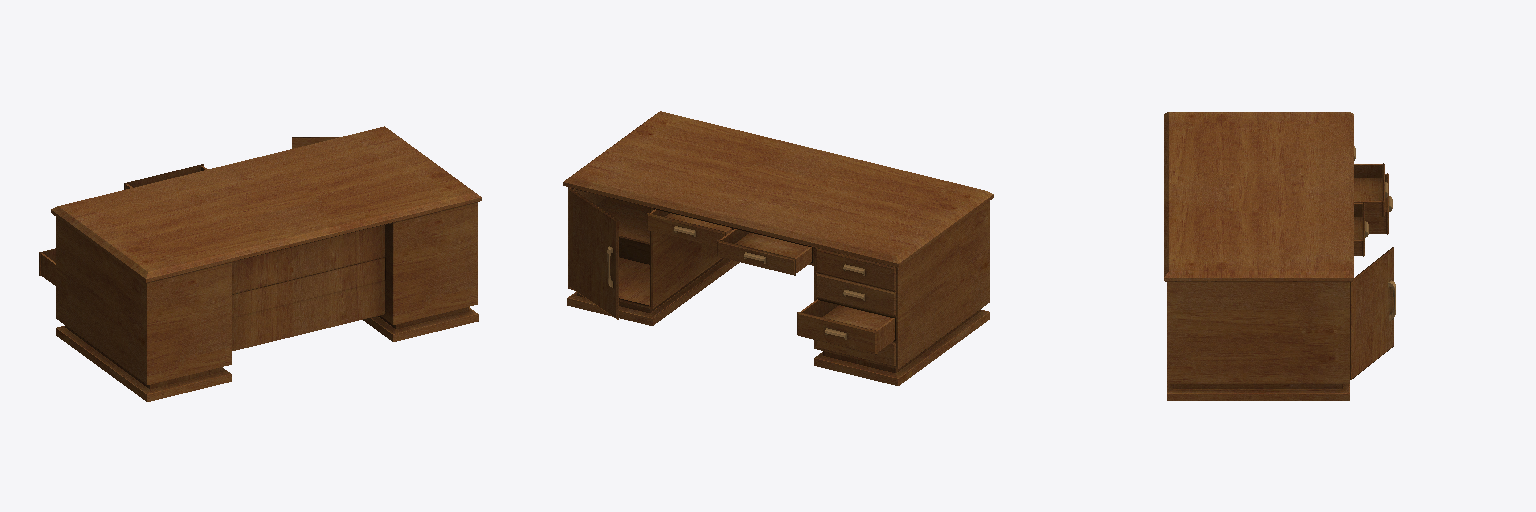
3 renders of one model, left to right at view 1: azimuth 30°, elevation 25°; view 2: azimuth 150°, elevation 25°; view 3: azimuth 270°, elevation 25°, orthographic.
Parts seen in each view (by area): view 1: DeskWoodC; view 2: DeskWoodC; view 3: DeskWoodC.
Boxes of the visible parts, <box> form: DeskWoodC: <box>39,126,481,401</box>; DeskWoodC: <box>563,111,993,385</box>; DeskWoodC: <box>1164,112,1395,400</box>.
Size of the model in its own units: 196 by 72 by 118.
Materials: 1 (1 with a texture image).